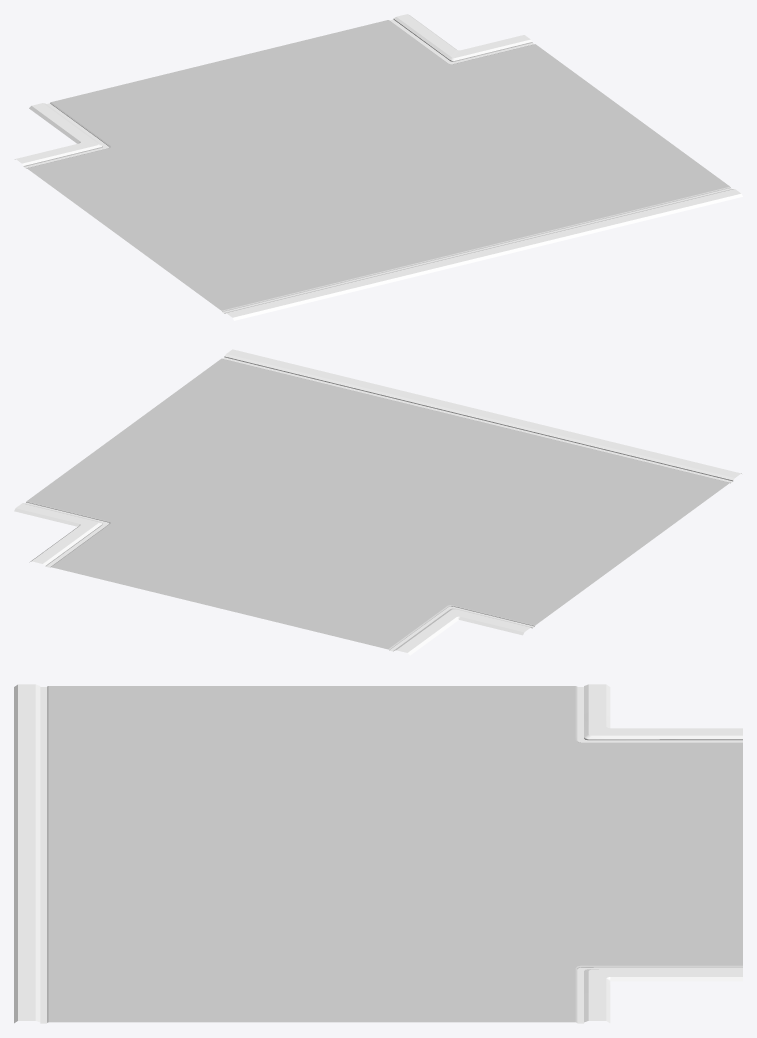
File: T_junction_wide.fbx
3 views of the same model, one above another, from view 1: azimuth 30°, elevation 25°; view 2: azimuth 150°, elevation 25°; view 3: azimuth 270°, elevation 25° (orthographic). The views are drawn at different scales.
Parts seen in each view (by area): view 1: T_junction_wide2; view 2: T_junction_wide2; view 3: T_junction_wide2.
Part boxes in pixels (x1,y1,x2,y2): T_junction_wide2: (15, 14, 742, 320); T_junction_wide2: (14, 349, 741, 655); T_junction_wide2: (14, 684, 742, 1023).
Size of the model in its own units: 8.97 by 0.0345 by 8.21.
